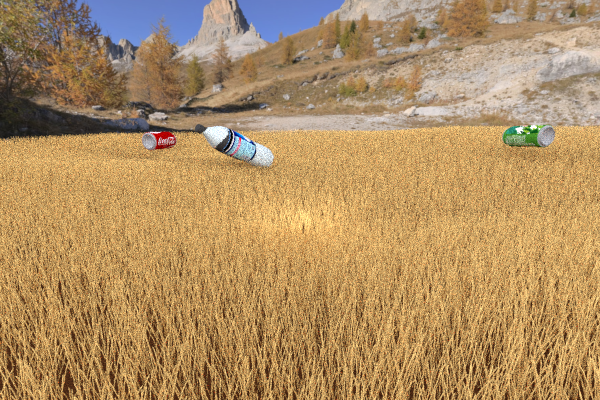Plastic Bottle: (194, 123, 274, 168), (502, 124, 555, 147), (141, 131, 176, 150)
